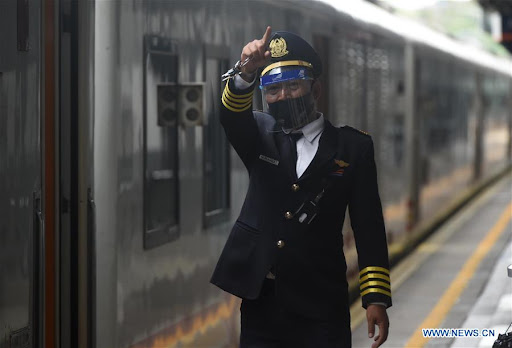with_incorrect_mask: (262, 75, 316, 124)
